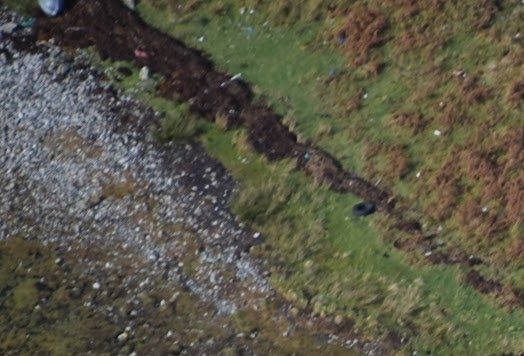white_in_green: (336, 183, 389, 234), (120, 31, 166, 69)
